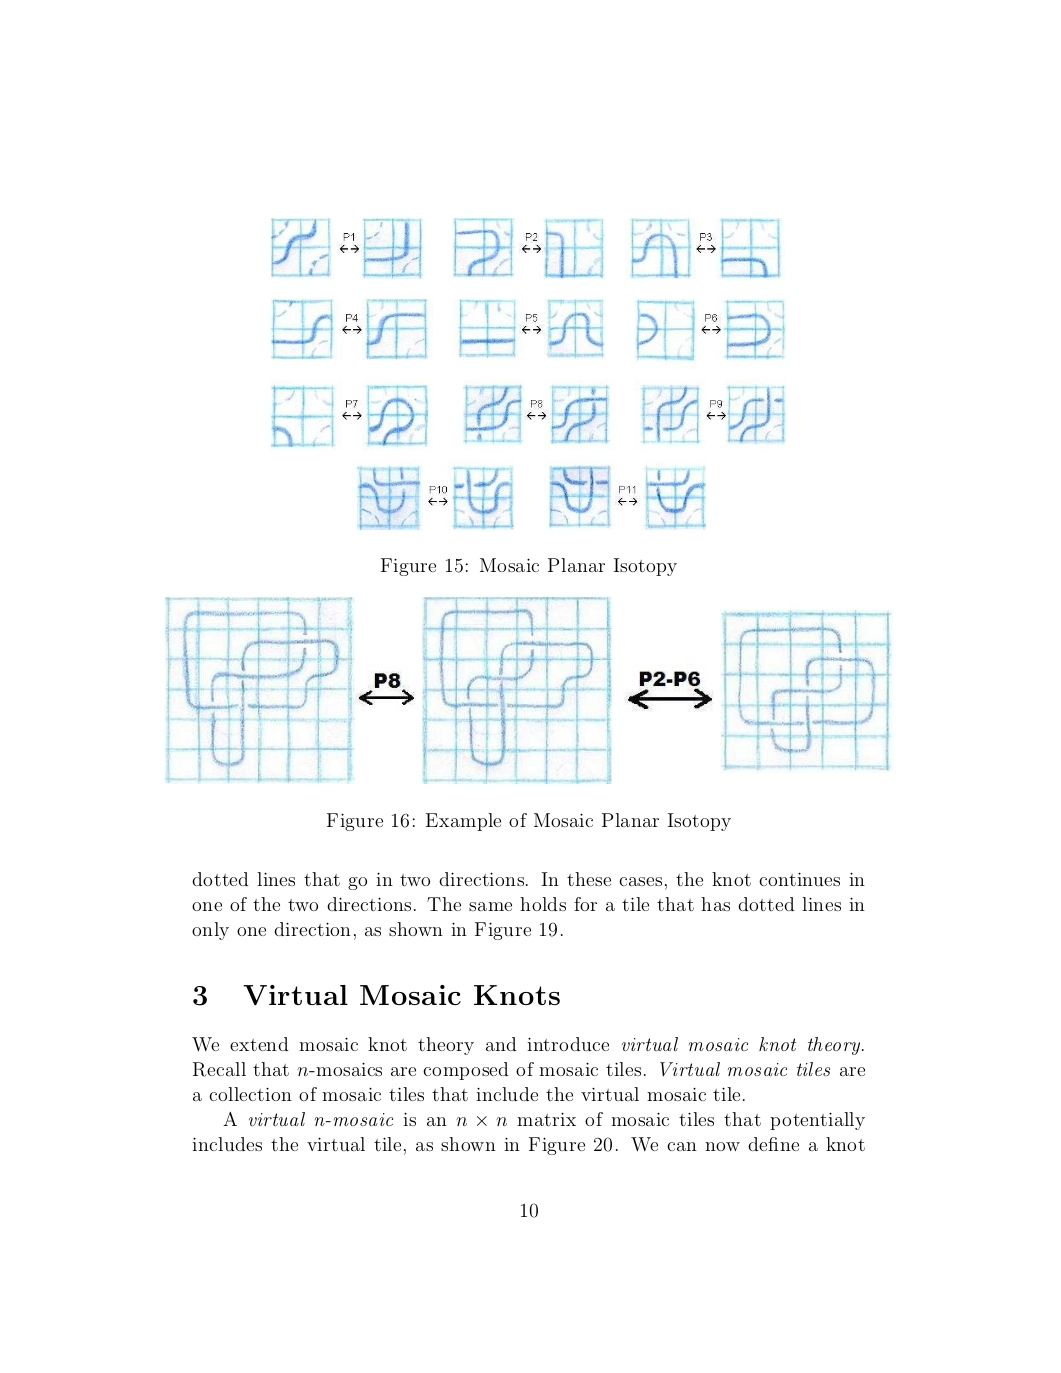figure: (271, 218, 783, 529), (165, 595, 890, 783)
